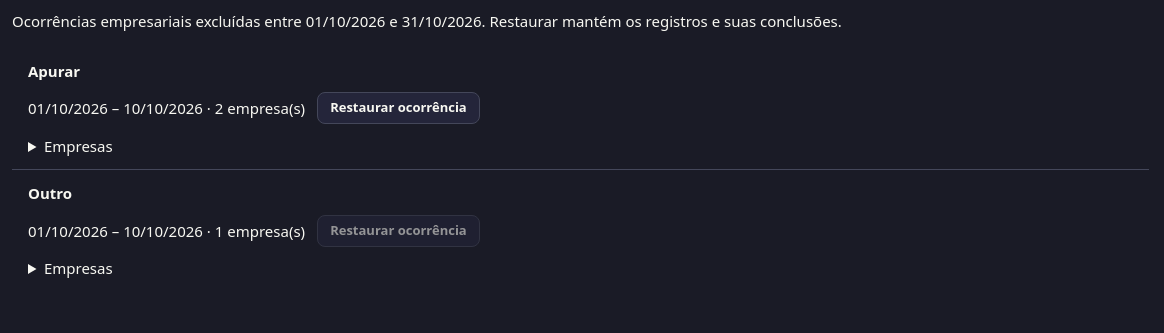
recupera somente o grupo selecionado e informa falha sem esconder o registro
expect the button "Restaurar ocorrência" below "Outro" is disabled: met, box [317,215,480,247]
Click the button "Restaurar ocorrência" below "Apurar" at (398, 108), box [317,92,480,124]
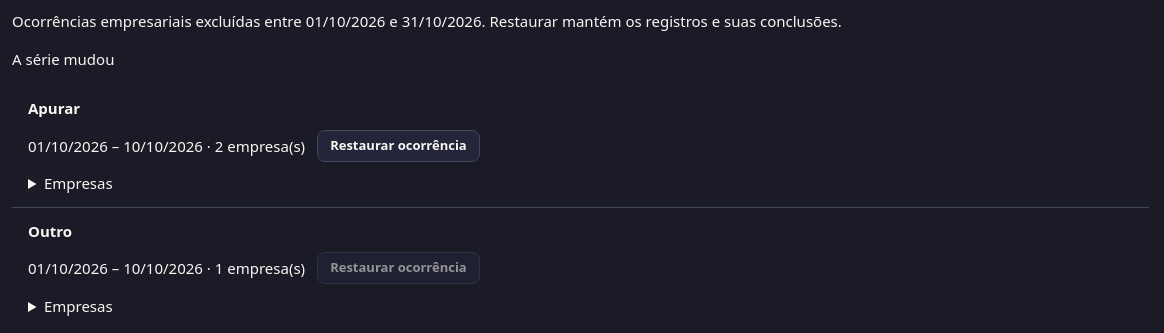
expect the message reads "A série mudou": met, box [12,48,114,68]
